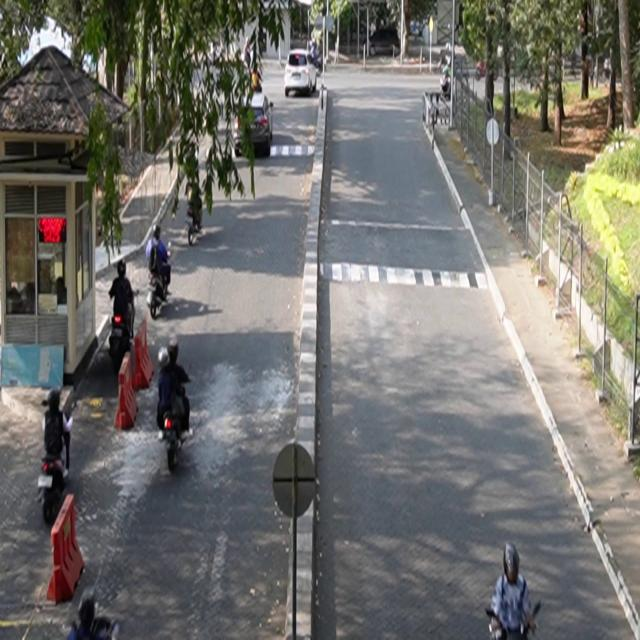car: (234, 93, 274, 159), (285, 50, 318, 98)
